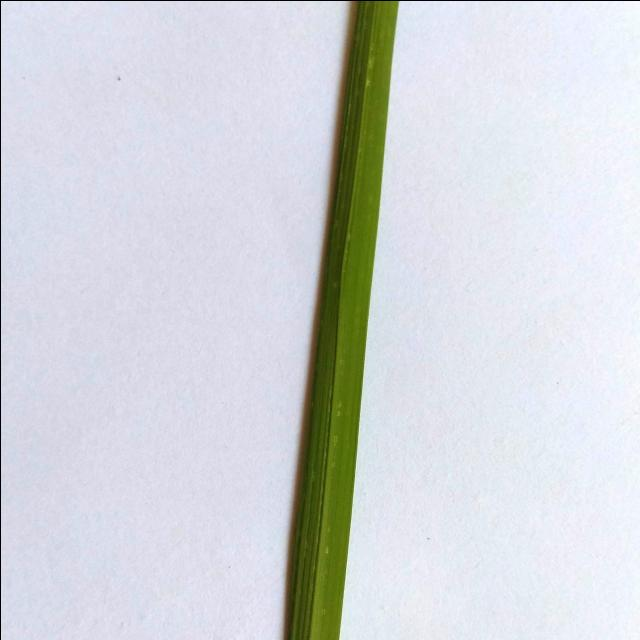healthy: (256, 0, 439, 640)
